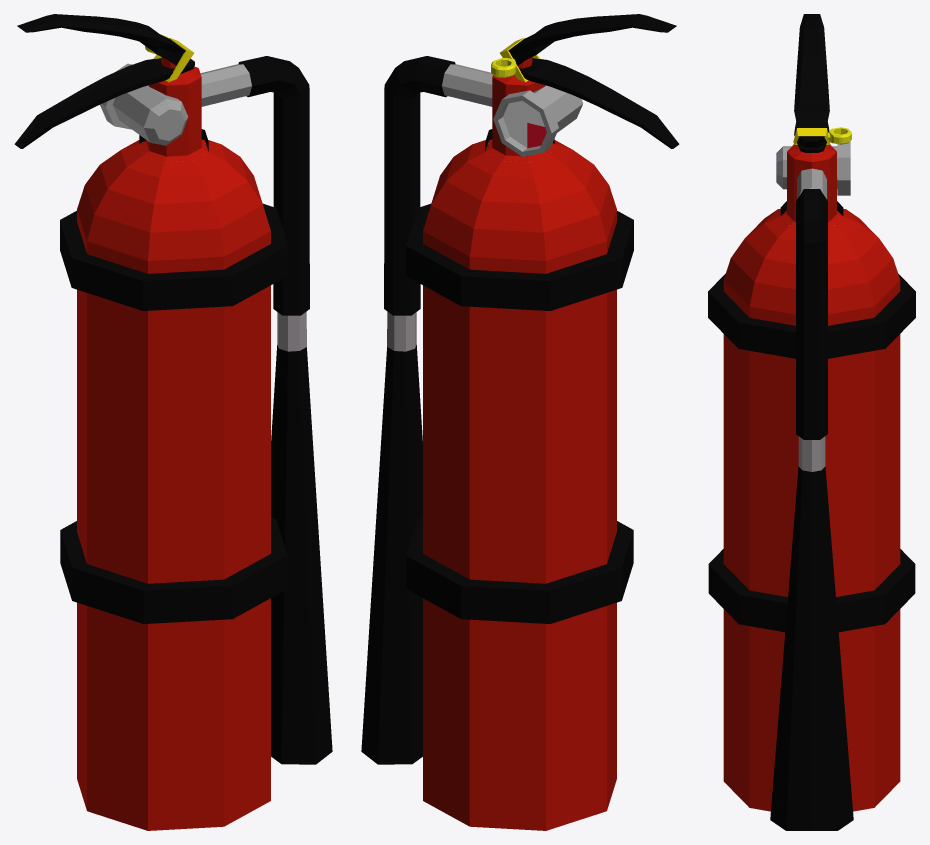
File: inactive_extinguisher_longNose_Red.fbx
3 renders of one model, left to right at view 1: azimuth 30°, elevation 25°; view 2: azimuth 150°, elevation 25°; view 3: azimuth 270°, elevation 25°, orthographic. The views are drawn at different scales.
Visible parts, largest first — view 1: Body, NoseShort, Hose, handletop; view 2: Body, NoseShort, Hose, handletop; view 3: Body, NoseShort, Hose, handletop.
Part boxes in pixels (left/top/right/bottom): Body: left=14, top=57, right=287, bottom=830; NoseShort: left=271, top=311, right=332, bottom=764; Hose: left=238, top=56, right=309, bottom=315; handletop: left=17, top=14, right=189, bottom=67; Body: left=406, top=57, right=679, bottom=830; NoseShort: left=361, top=311, right=422, bottom=764; Hose: left=384, top=56, right=455, bottom=315; handletop: left=508, top=14, right=676, bottom=65; Body: left=708, top=122, right=915, bottom=811; NoseShort: left=770, top=436, right=853, bottom=830; Hose: left=796, top=189, right=827, bottom=439; handletop: left=794, top=14, right=829, bottom=147.
Size of the model in its own units: 171 by 436 by 116.
